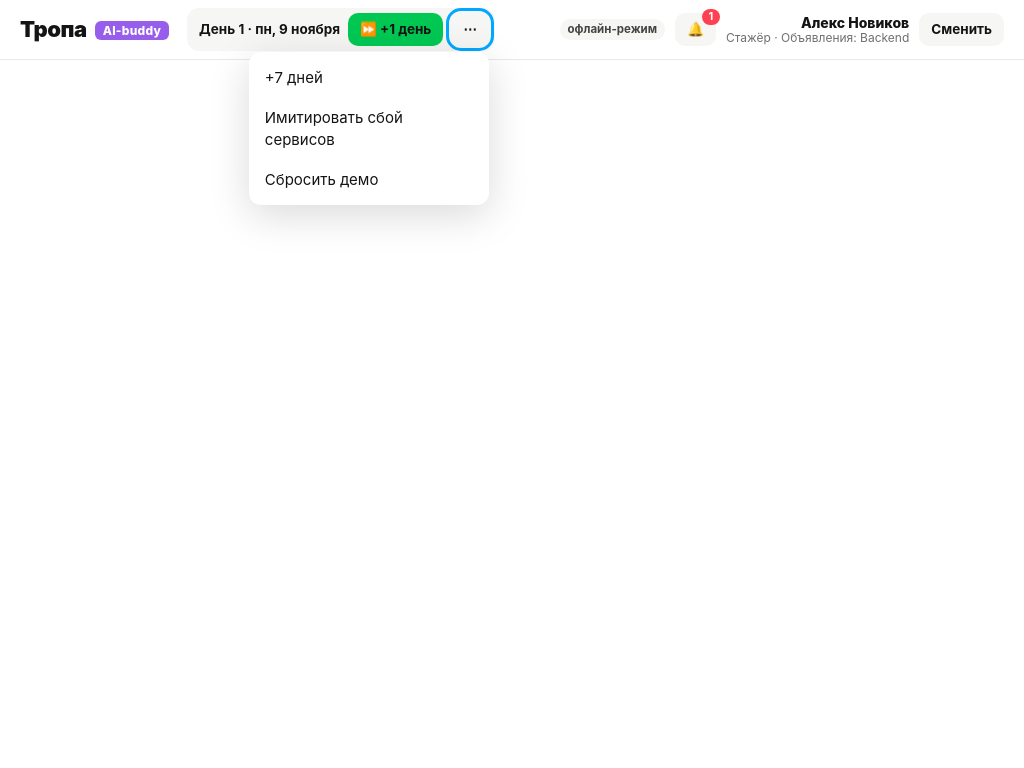
TopBar › [UI-11] runs the time machine, demo menu and notifications
Earlier steps of the test are not shown.
Later steps or results of the test are not shown.
Click the menu item "+7 дней".
click(369, 78)  # box [255,58,483,98]
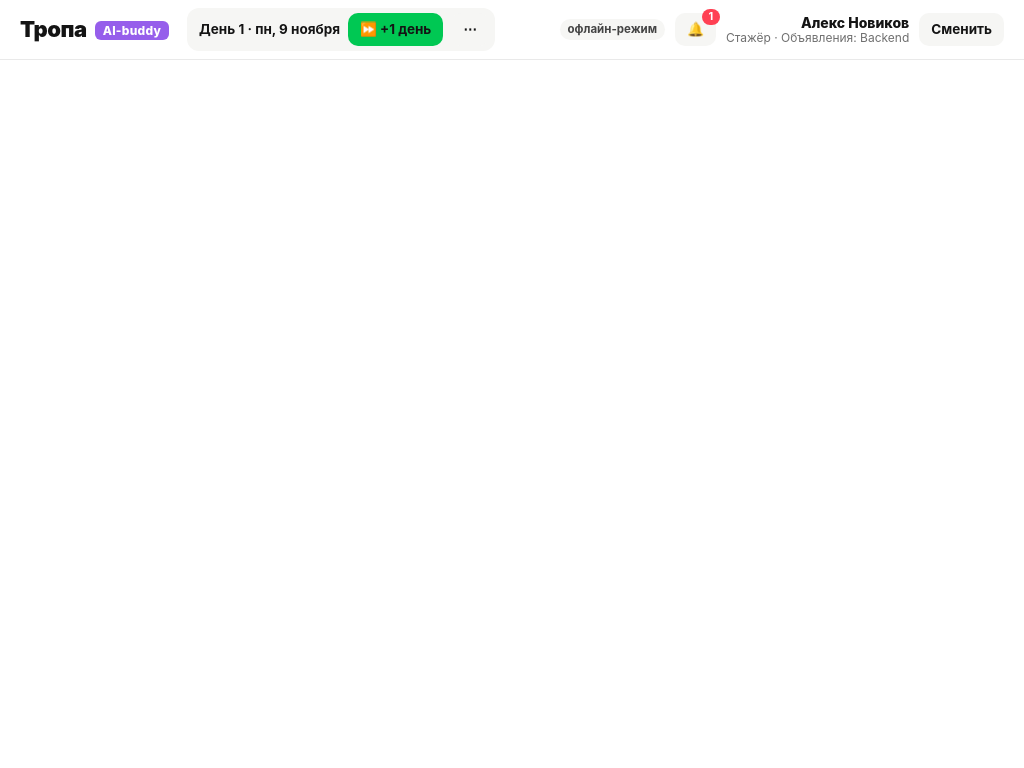
Click the button named "Демо-меню".
click(470, 30)  # box [451,13,489,46]
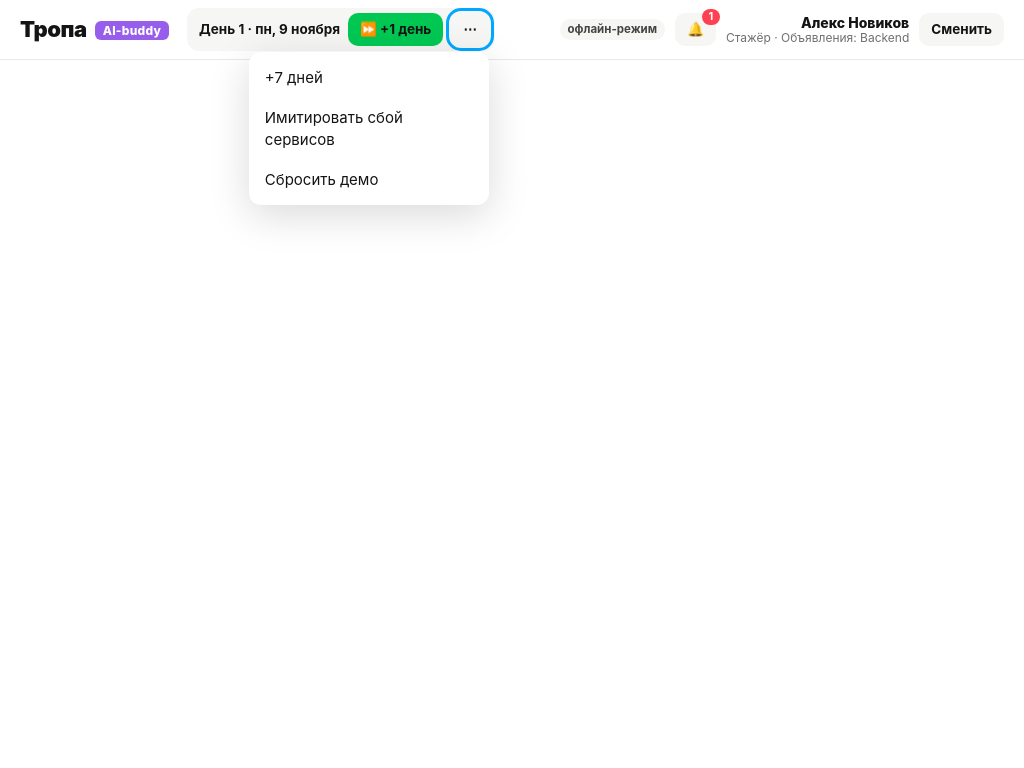
Click the menu item "Имитировать сбой сервисов".
click(369, 129)  # box [255,98,483,160]
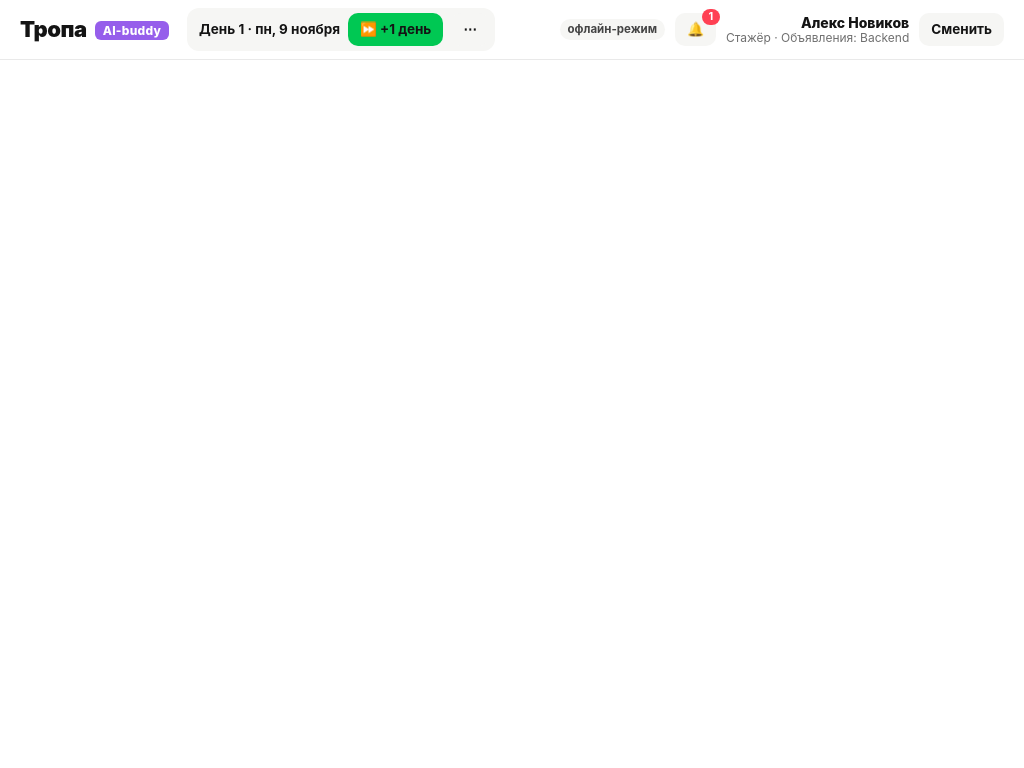
Click the button named "Демо-меню".
click(470, 30)  # box [451,13,489,46]
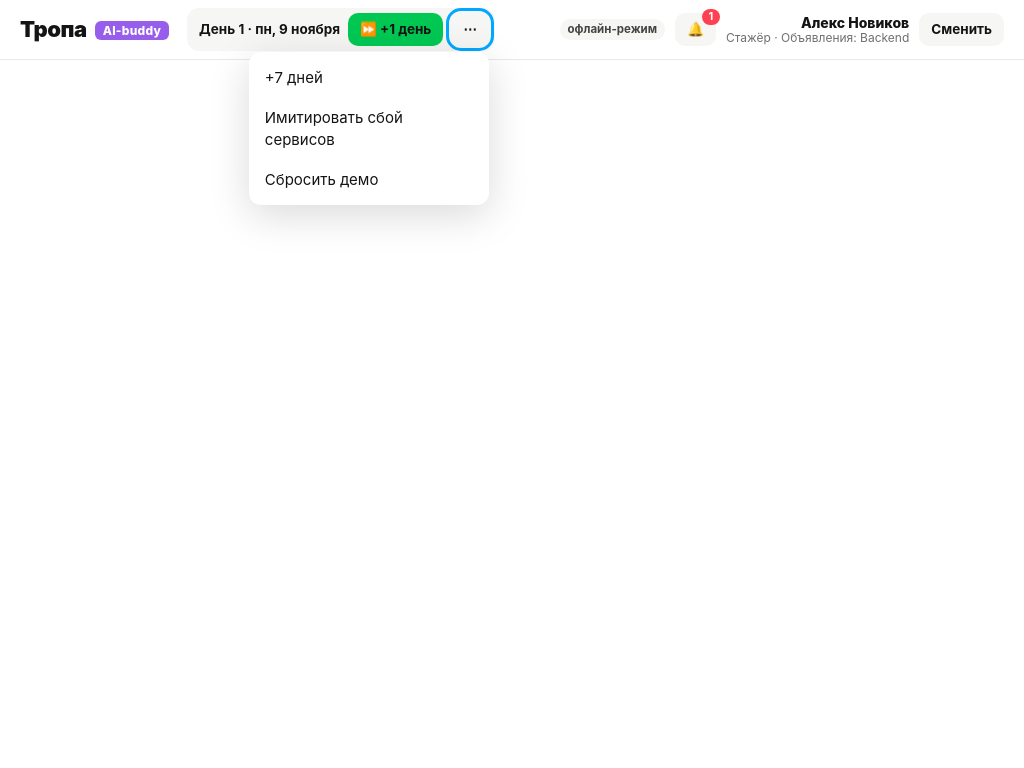
Click the menu item "Сбросить демо".
click(369, 179)  # box [255,160,483,199]
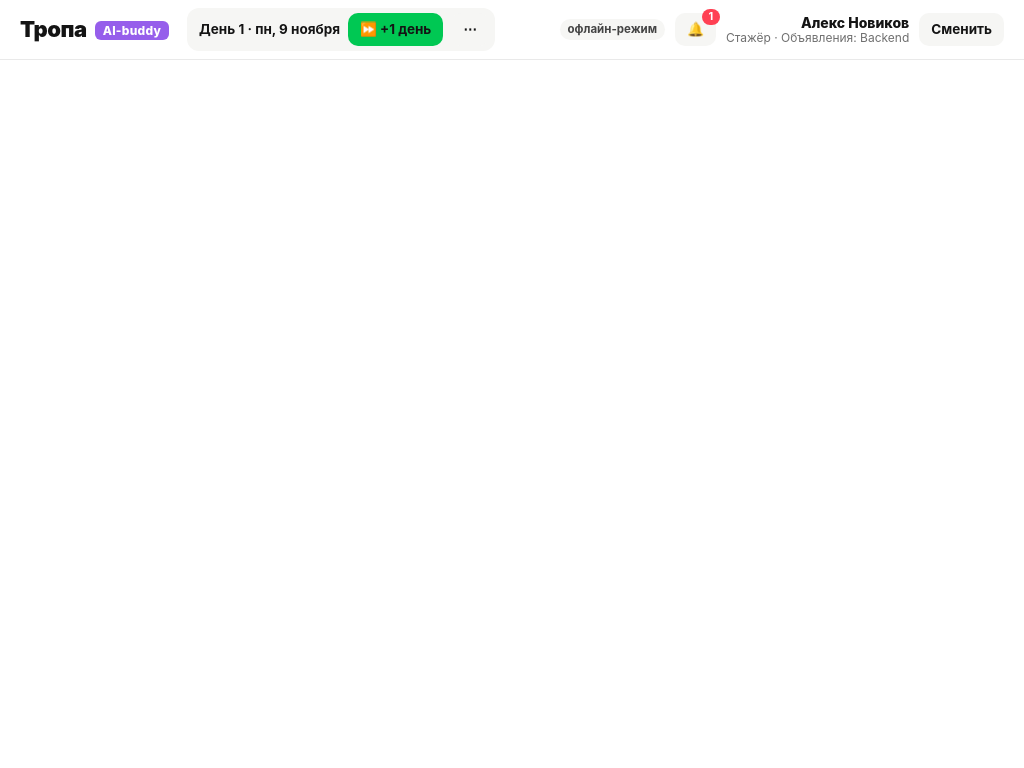
Click the button named "Уведомления: 1".
click(696, 30)  # box [675,13,716,46]
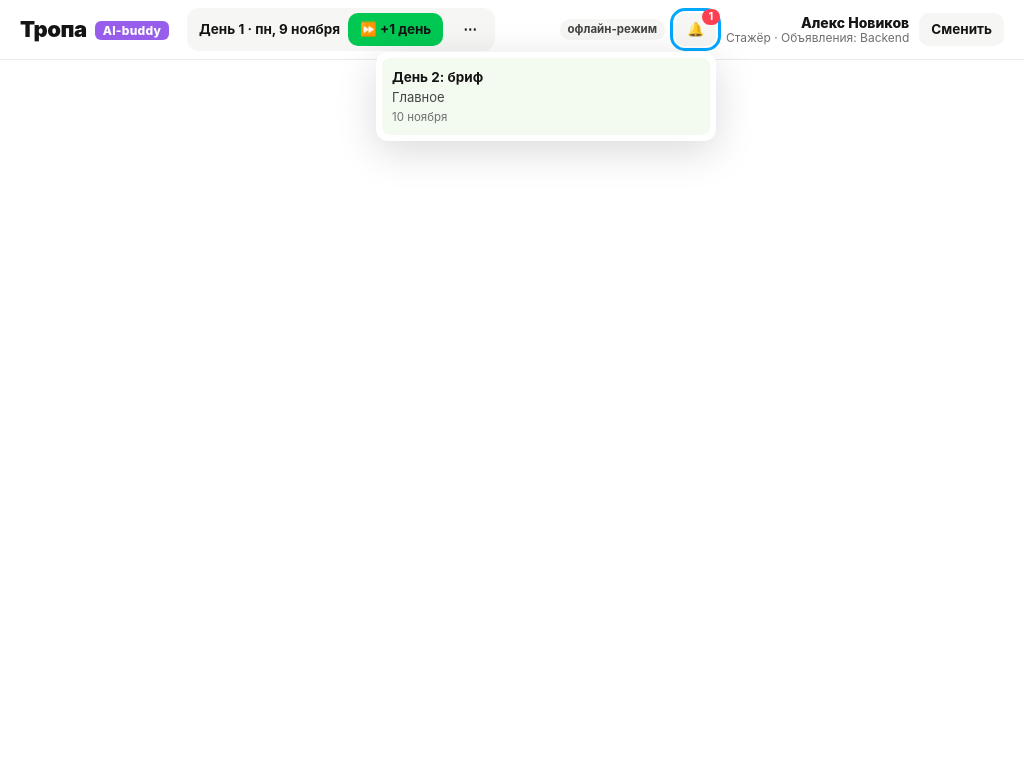
Now the text "Главное" is shown, box [392,89,445,105]
